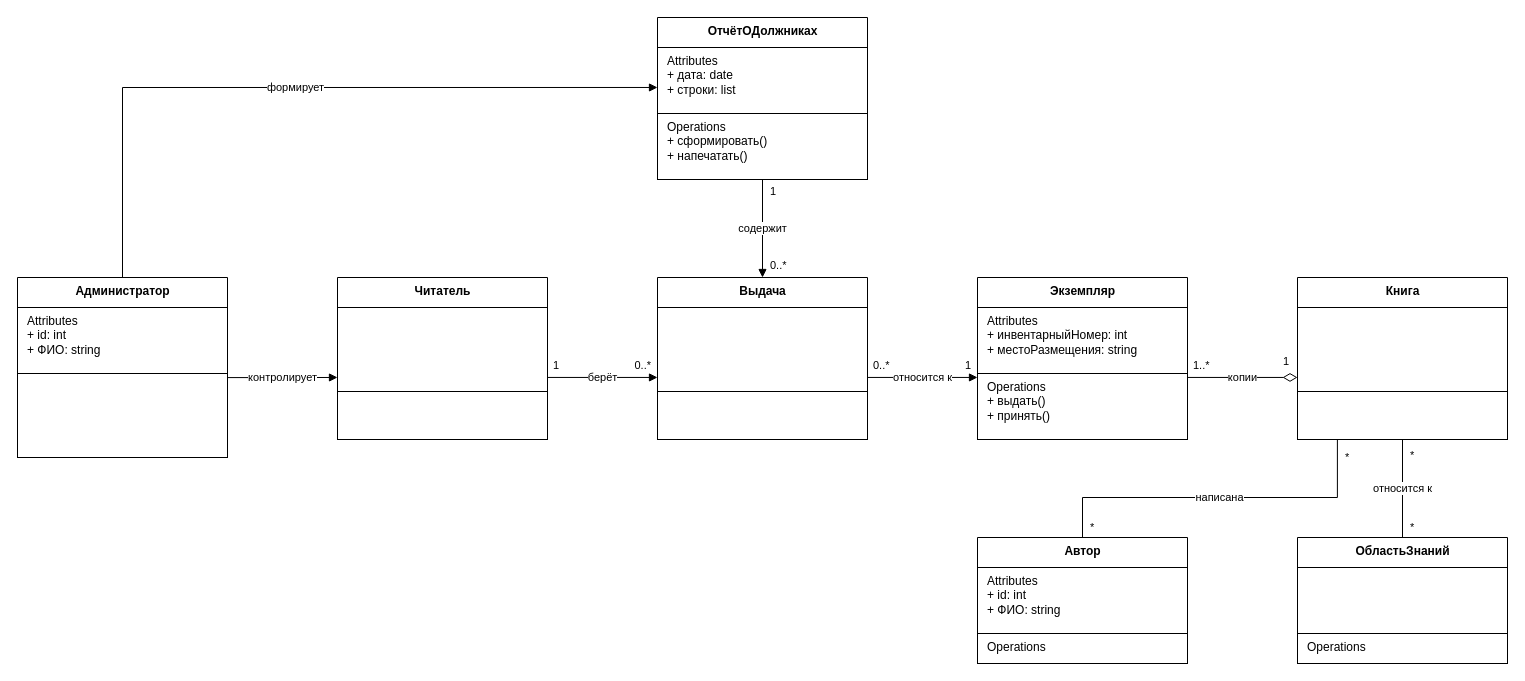
This 1525x681 diagram has some shape labels left out. The shapes that lost their labels are listed below. From the top down, each one's centre as x and y in pixels, then its label:
At (x=442, y=349): "Attributes + id: int + ФИО: string + номерАбонемента: string".
At (x=762, y=349): "Attributes + датаВыдачи: date + срокВозврата: date + датаВозврата: date".
At (x=1402, y=349): "Attributes + шифр: string + название: string + стоимость: decimal".
At (x=122, y=415): "Operations + получитьДолжников() + напечататьОтчёт() + утвердитьАктСписания()".
At (x=442, y=415): "Operations + являетсяДолжником()".
At (x=762, y=415): "Operations + просрочена()".
At (x=1402, y=415): "Operations + свободныхЭкземпляров()".
At (x=1402, y=600): "Attributes + номер: int + наименование: string".
